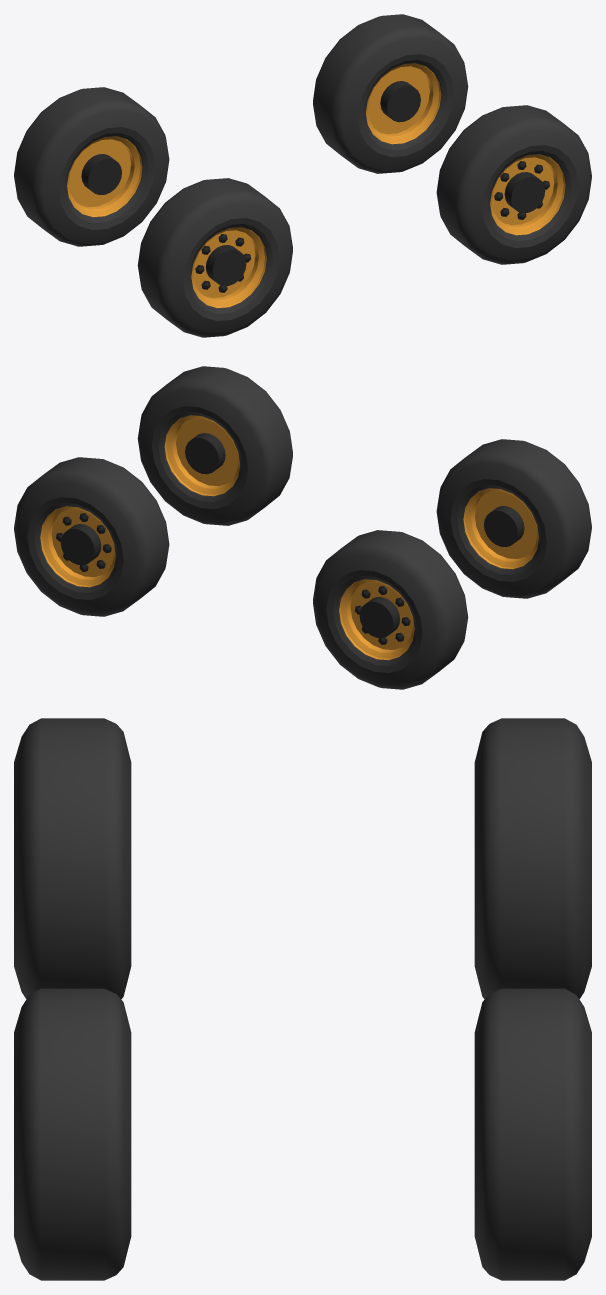
The model's file is JCBTireTest.fbx.
3 renders of one model, top to bottom at view 1: azimuth 30°, elevation 25°; view 2: azimuth 150°, elevation 25°; view 3: azimuth 270°, elevation 25°, orthographic. The views are drawn at different scales.
Visible parts, largest first — view 1: polySurface88; view 2: polySurface88; view 3: polySurface88.
Part boxes in pixels (x1,y1,x2,y2): polySurface88: (14, 14, 591, 337); polySurface88: (14, 366, 591, 689); polySurface88: (14, 718, 591, 1280).
Bounding box in the file's own units: 18.3 × 5.77 × 11.33.
